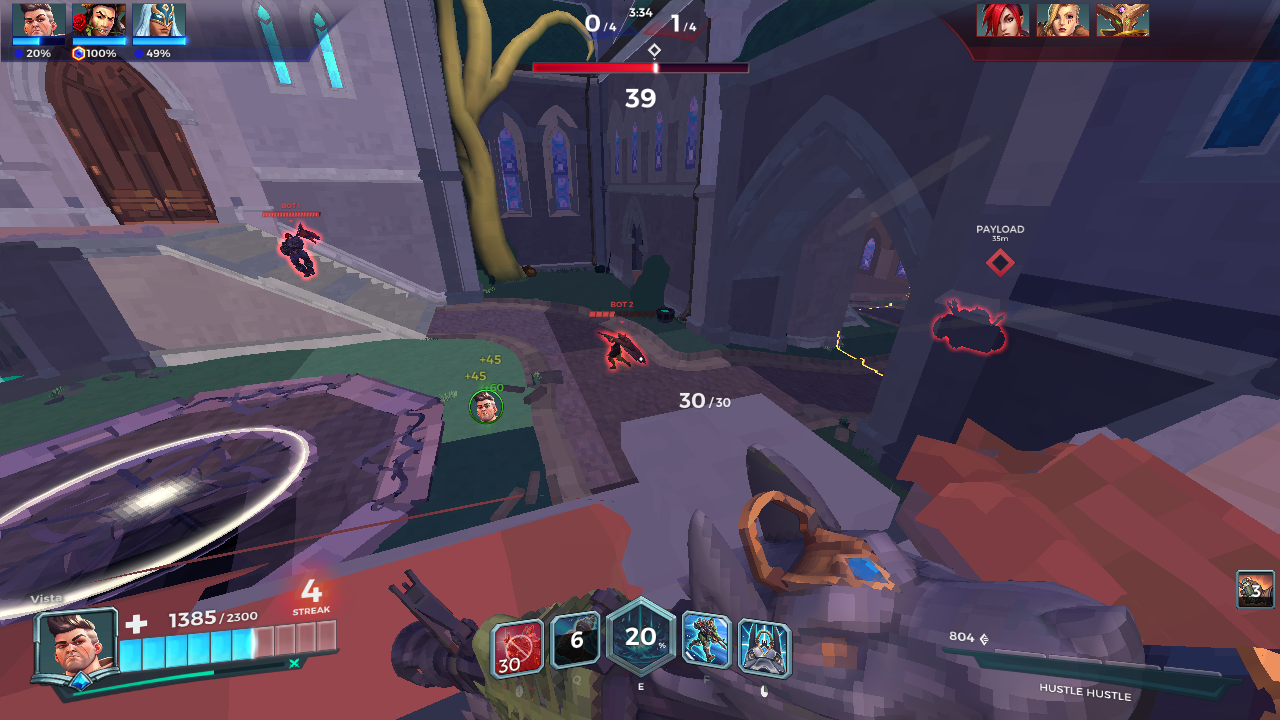model: (268, 227, 326, 281), (593, 323, 643, 381)
